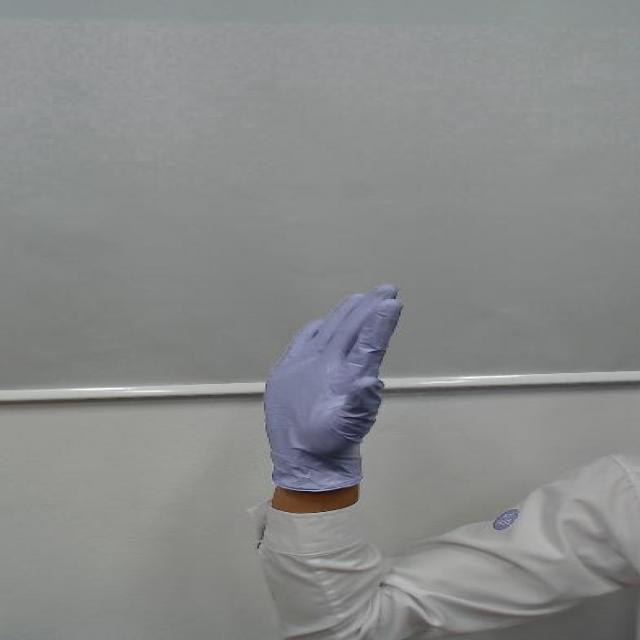Glove: (247, 276, 427, 486)
